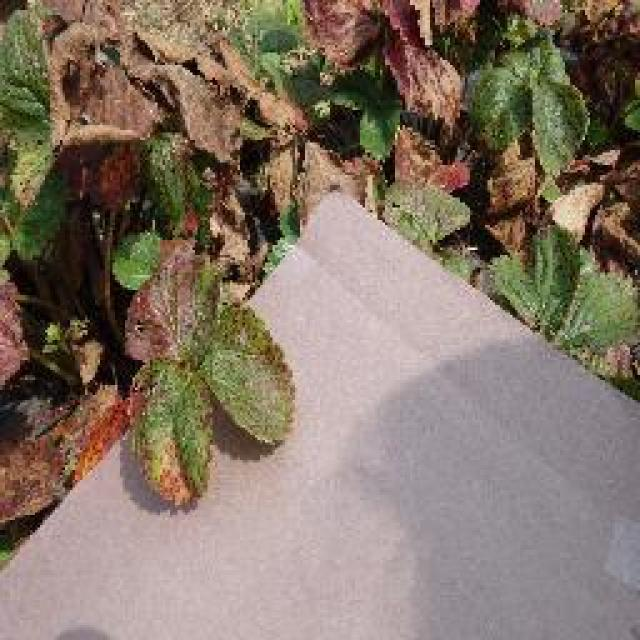Strawberry leaf scorch: (63, 198, 175, 475)
